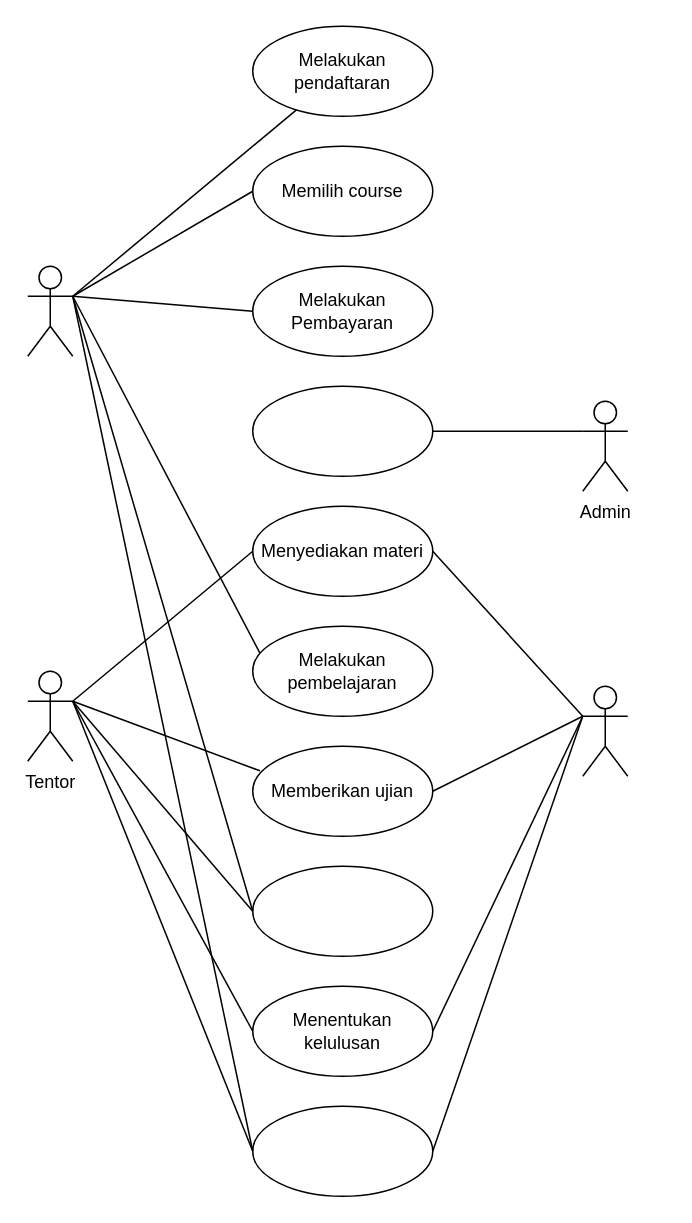
Image size: 692x1223. Some labels were removed from this diagram. The shapes that lost their labels are listed below. From the top down, each one's centre as x and y in pixels, then its label:
At point (49, 310): "Siswa".
At point (342, 430): "Memverifikasi pembayaran".
At point (604, 730): "Project Creator".
At point (342, 910): "Melaksanakan ujian".
At point (342, 1150): "Pemberian Sertifikat".
